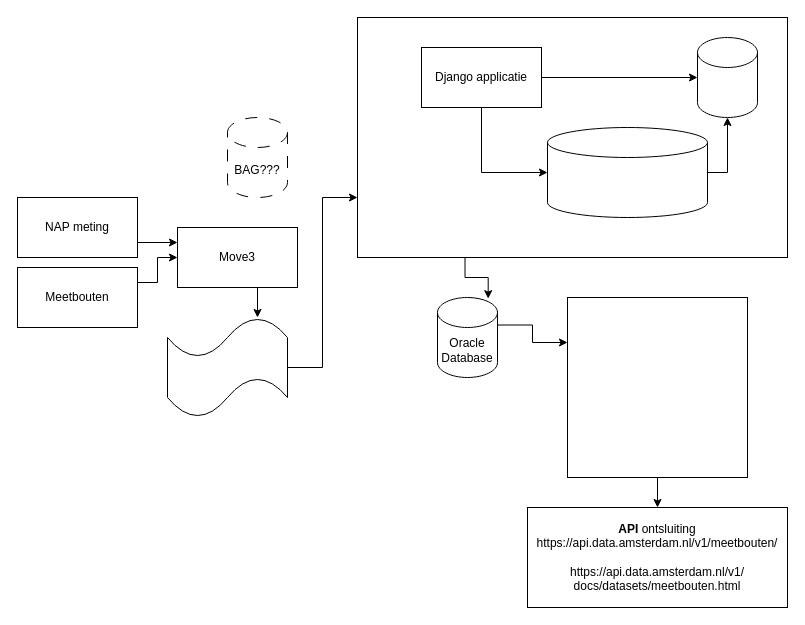
This 805x625 diagram has some shape labels left out. Here are the shapes that lost their labels. From the top down, the centre of each, then its label:
point (727, 77): Postgres Database
point (627, 172): Fotos Storage blob
point (227, 367): TXT
point (657, 387): Generieke Ontsluiting Basisgegevens(GOB)
